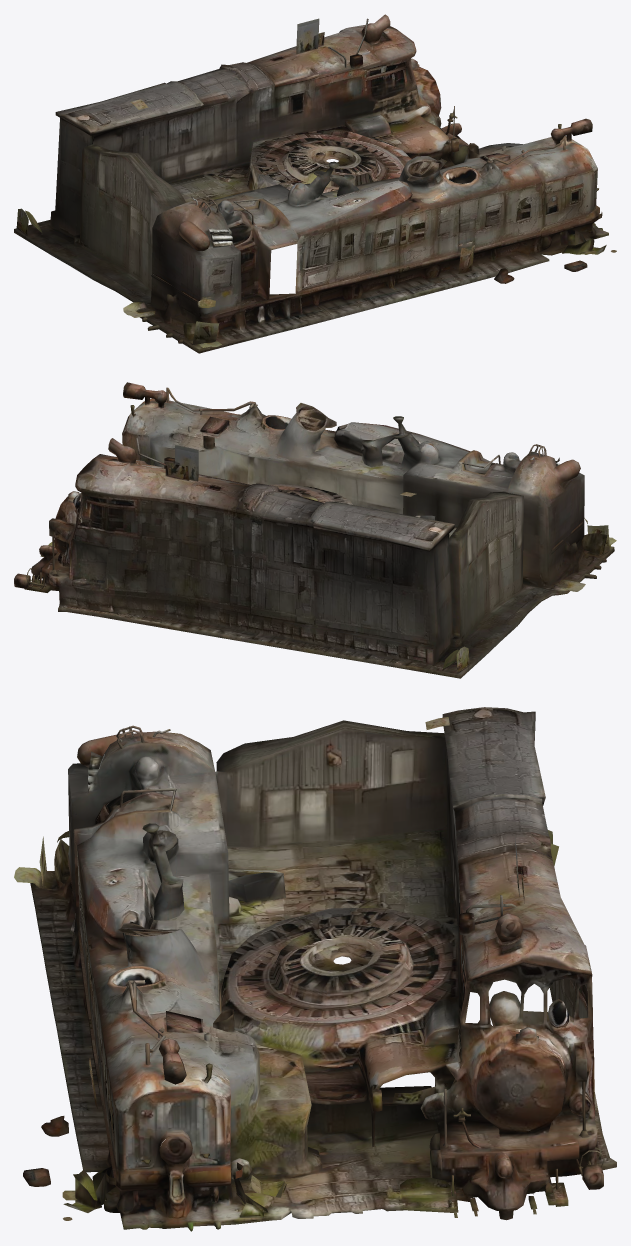
The model's file is landmark-roundhouse.glb.
3 views of the same model, one above another, from view 1: azimuth 30°, elevation 25°; view 2: azimuth 150°, elevation 25°; view 3: azimuth 270°, elevation 25° (orthographic). The views are drawn at different scales.
Parts seen in each view (by area): view 1: landmark-roundhouse; view 2: landmark-roundhouse; view 3: landmark-roundhouse.
Part boxes in pixels (x1,y1,x2,y2): landmark-roundhouse: (14,14,616,353); landmark-roundhouse: (14,382,616,678); landmark-roundhouse: (14,707,616,1231).
Size of the model in its own units: 0.9995 by 0.3452 by 0.7241.
Materials: 1 (1 with a texture image).
